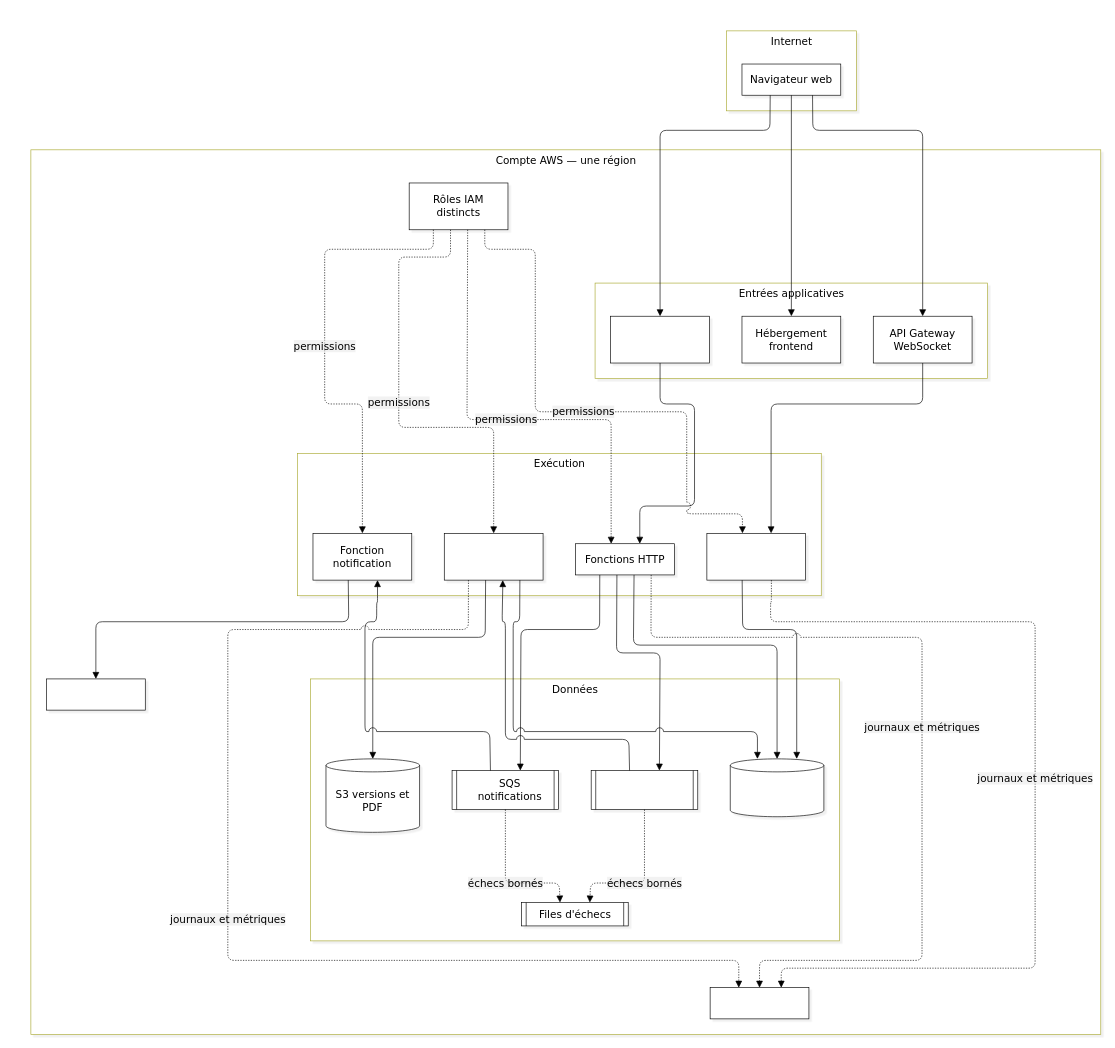
Some shapes in this 1115 by 1048 pixel diagram are drawn without their labels. Each missing label, with the centre of its shape:
"API Gateway HTTP" goes at pixel 661 341.
"CloudWatch" goes at pixel 760 1004.
"DynamoDB" goes at pixel 778 788.
"Fonction génération PDF" goes at pixel 495 558.
"Fonctions collaboration" goes at pixel 757 558.
"SES" goes at pixel 97 695.
"SQS travaux PDF" goes at pixel 645 791.
